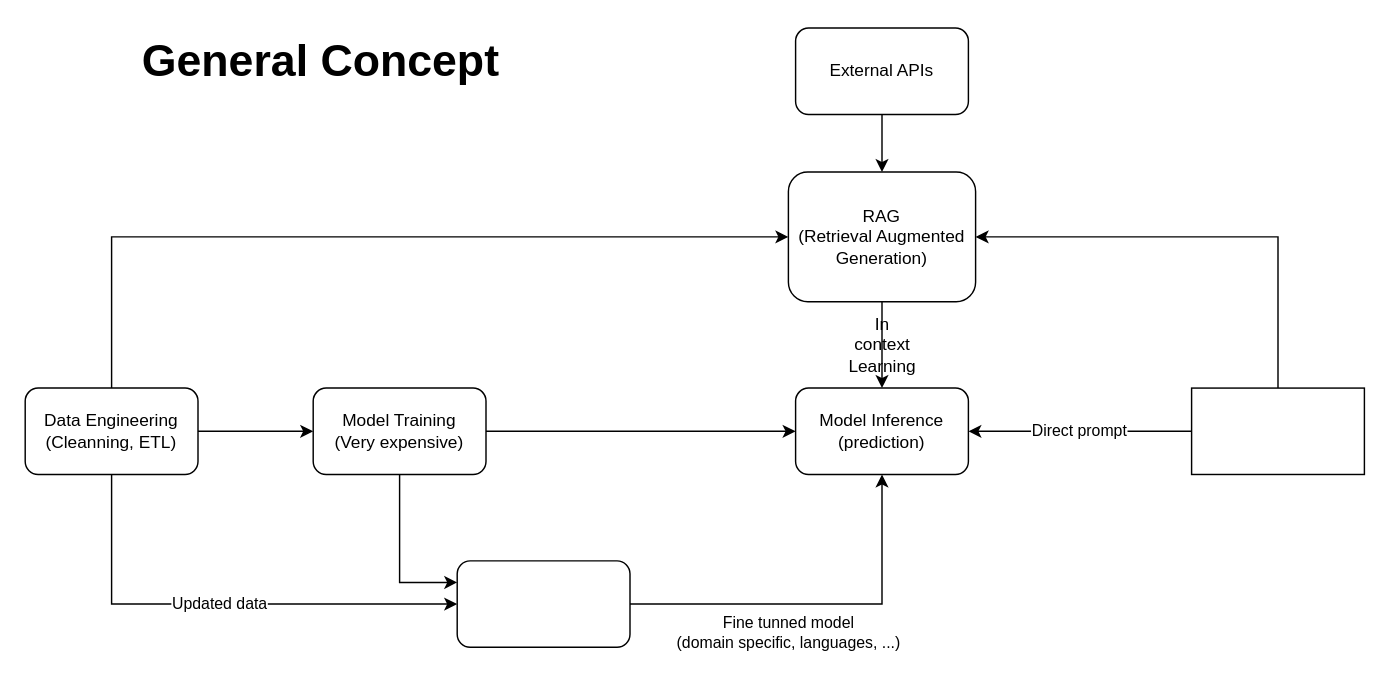
This 1390x675 diagram has some shape labels left out. The shapes that lost their labels are listed below. From the top down, each one's centre as x and y in pixels, then its label:
the point at 1277,430: Question
the point at 543,603: Fine tunning (Less expensive)
